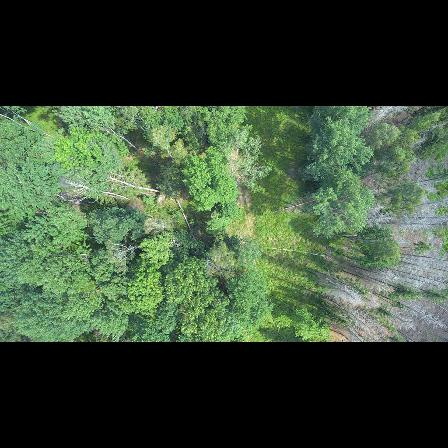Dead: (385, 294, 445, 327), (56, 180, 129, 206), (318, 270, 363, 304), (358, 106, 402, 136), (389, 262, 442, 282), (332, 302, 370, 329), (108, 241, 143, 269), (374, 218, 448, 231), (400, 195, 448, 214), (398, 248, 445, 262), (401, 174, 444, 189)
